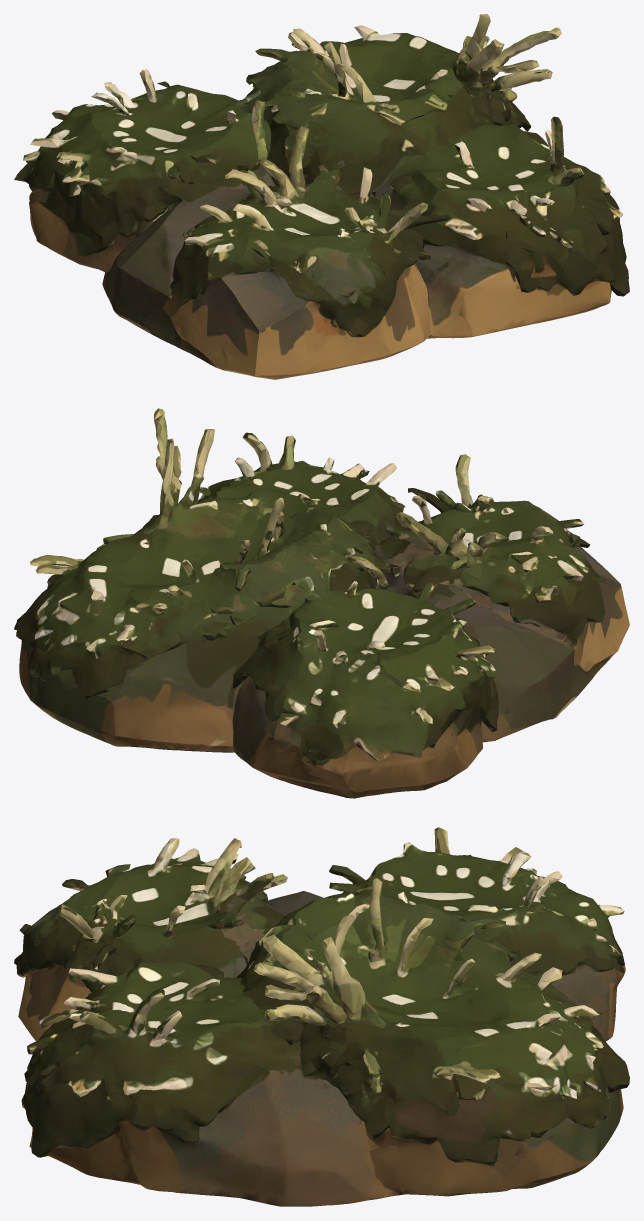
File: item_volt_moss.glb
3 views of the same model, one above another, from view 1: azimuth 30°, elevation 25°; view 2: azimuth 150°, elevation 25°; view 3: azimuth 270°, elevation 25° (orthographic). The views are drawn at different scales.
Visible parts, largest first — view 1: item_volt_moss; view 2: item_volt_moss; view 3: item_volt_moss.
Boxes of the visible parts, <box> form: item_volt_moss: <box>14,14,629,379</box>; item_volt_moss: <box>14,408,629,798</box>; item_volt_moss: <box>14,827,629,1206</box>.
Bounding box in the file's own units: 0.1457 × 0.0614 × 0.15.
Materials: 1 (1 with a texture image).
